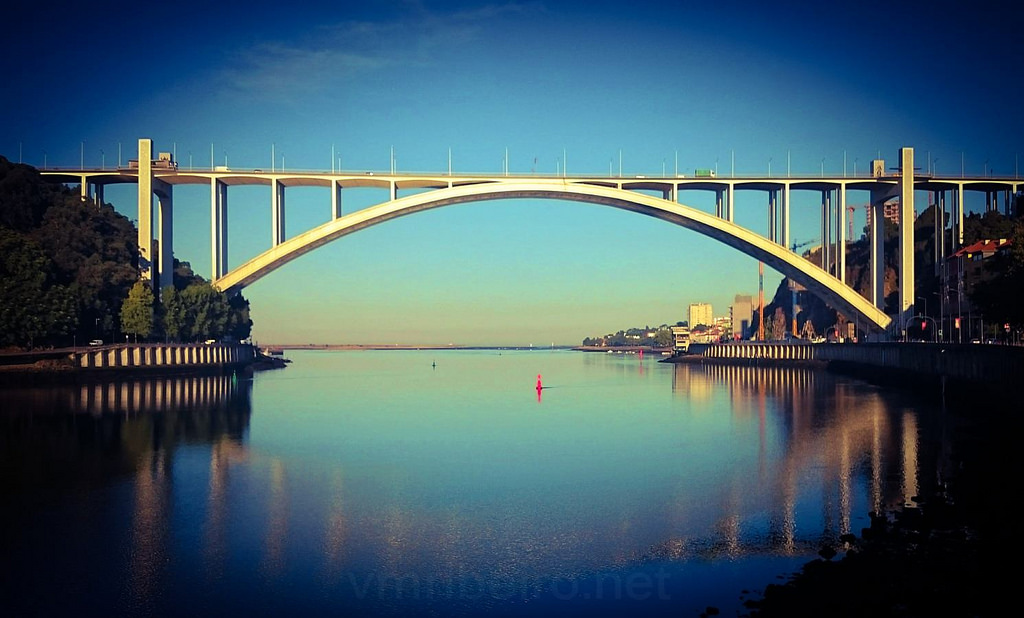arrabida: (31, 135, 1023, 341)
